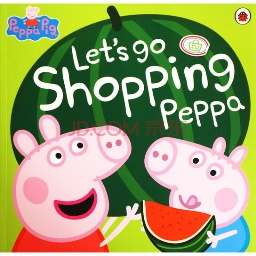Peppa: (10, 112, 143, 256)
